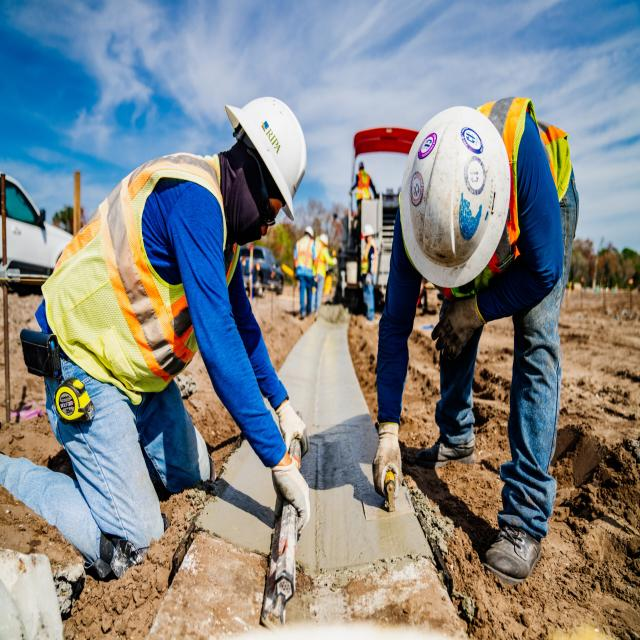Boots: (413, 414, 548, 584)
Gloves: (267, 395, 319, 537), (426, 295, 495, 361), (367, 417, 408, 498)
Hard Hat: (396, 92, 512, 295), (222, 80, 320, 228)
Reflective Vest: (39, 140, 245, 417), (432, 84, 569, 306)
Safety Glasses: (257, 192, 278, 229)
